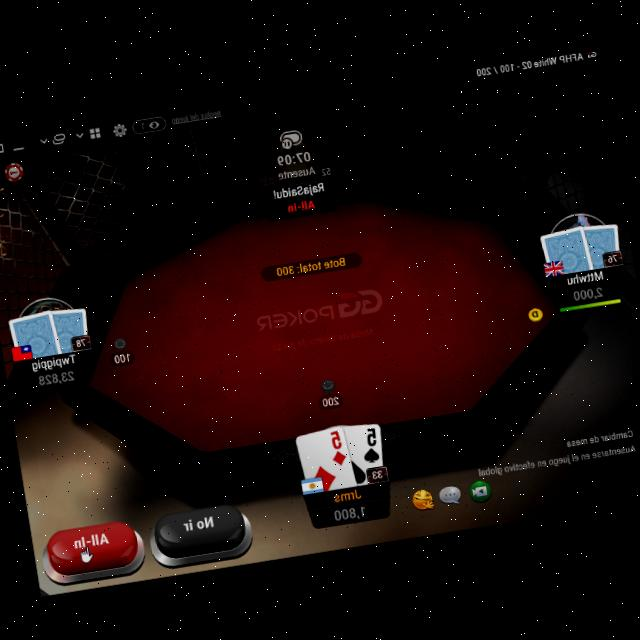5d: (324, 426, 350, 468)
5s: (356, 424, 382, 464)
all_in_symbol: (284, 196, 316, 213)
bet_text: (110, 348, 132, 365), (320, 393, 340, 408)
card_back: (5, 304, 64, 364), (538, 221, 594, 278), (42, 302, 94, 355), (576, 218, 626, 270)
dealer: (524, 302, 547, 324)
pot_text: (274, 254, 348, 276)
stack_text: (331, 501, 368, 523), (36, 368, 76, 387), (570, 282, 606, 302)
